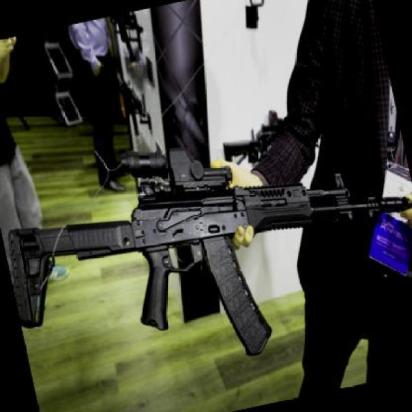Gun: (0, 155, 412, 343)
